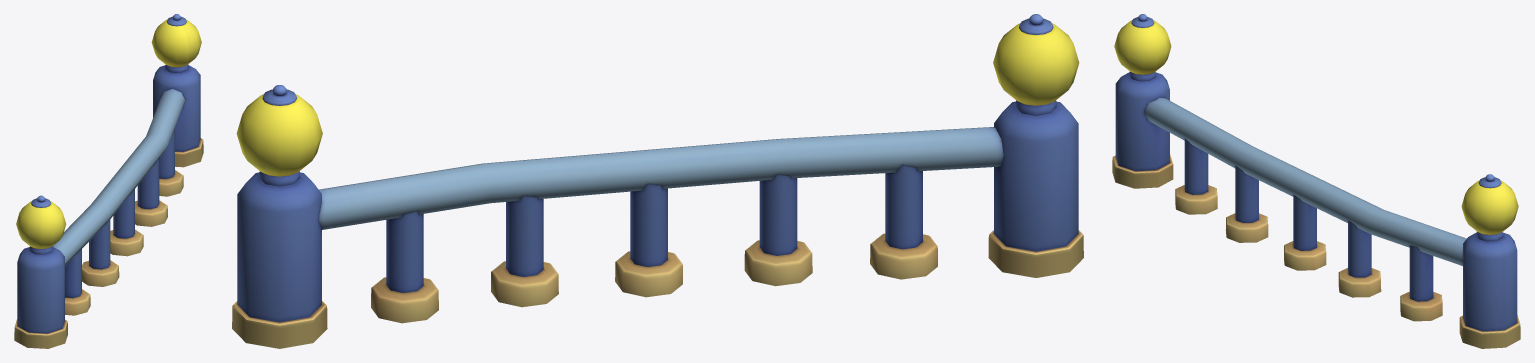
Rendered from SM_Town_Fence_Big.fbx.
The picture shows the model from 3 angles, left to right: view 1: azimuth 30°, elevation 25°; view 2: azimuth 150°, elevation 25°; view 3: azimuth 270°, elevation 25°; orthographic projection. The views are drawn at different scales.
Parts seen in each view (by area): view 1: SM_Town_Fence_Big; view 2: SM_Town_Fence_Big; view 3: SM_Town_Fence_Big.
Boxes of the visible parts, x1,y1,x2,y2 form: SM_Town_Fence_Big: [14, 14, 203, 348]; SM_Town_Fence_Big: [232, 14, 1083, 348]; SM_Town_Fence_Big: [1112, 14, 1520, 348].
Size of the model in its own units: 483 by 195 by 448.
